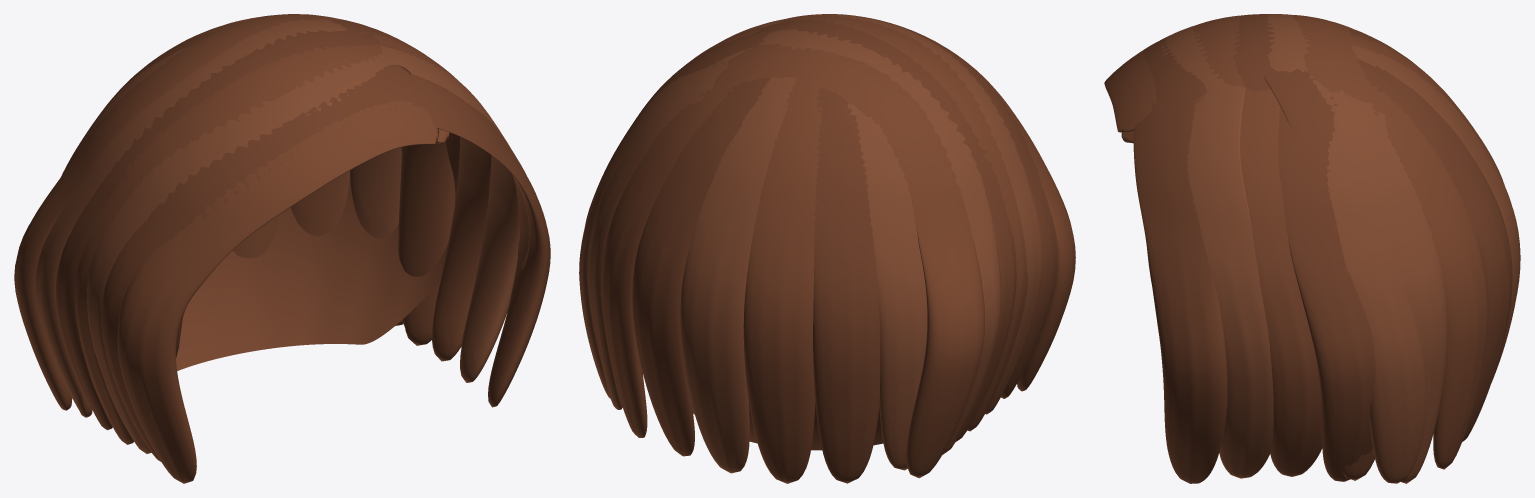
File: bob-bucket-default.glb
3 renders of one model, left to right at view 1: azimuth 30°, elevation 25°; view 2: azimuth 150°, elevation 25°; view 3: azimuth 270°, elevation 25°, orthographic. The views are drawn at different scales.
Parts seen in each view (by area): view 1: 226 hair / Hair / sculpted 0.004, 226 hair / Hair / sculpted 1.005, 226 hair / Hair / sculpted 2.004, 226 hair / Hair / sculpted 1; view 2: 226 hair / Hair / sculpted 0.004, 226 hair / Hair / sculpted 2.004, 226 hair / Hair / sculpted 1.005, 226 hair / Hair / sculpted 1; view 3: 226 hair / Hair / sculpted 1.005, 226 hair / Hair / sculpted 2.004, 226 hair / Hair / sculpted 0.004.
Part boxes in pixels (box(x1,y1,x2,y2)): 226 hair / Hair / sculpted 0.004: box(14, 14, 491, 483); 226 hair / Hair / sculpted 1.005: box(56, 15, 550, 461); 226 hair / Hair / sculpted 2.004: box(35, 16, 519, 453); 226 hair / Hair / sculpted 1: box(175, 174, 530, 370); 226 hair / Hair / sculpted 0.004: box(601, 15, 1075, 483); 226 hair / Hair / sculpted 2.004: box(579, 14, 1042, 473); 226 hair / Hair / sculpted 1.005: box(584, 14, 1058, 483); 226 hair / Hair / sculpted 1: box(692, 402, 883, 450); 226 hair / Hair / sculpted 1.005: box(1133, 14, 1512, 483); 226 hair / Hair / sculpted 2.004: box(1161, 14, 1520, 483); 226 hair / Hair / sculpted 0.004: box(1104, 15, 1504, 476).
Size of the model in its own units: 0.8192 by 0.7 by 0.6877.
